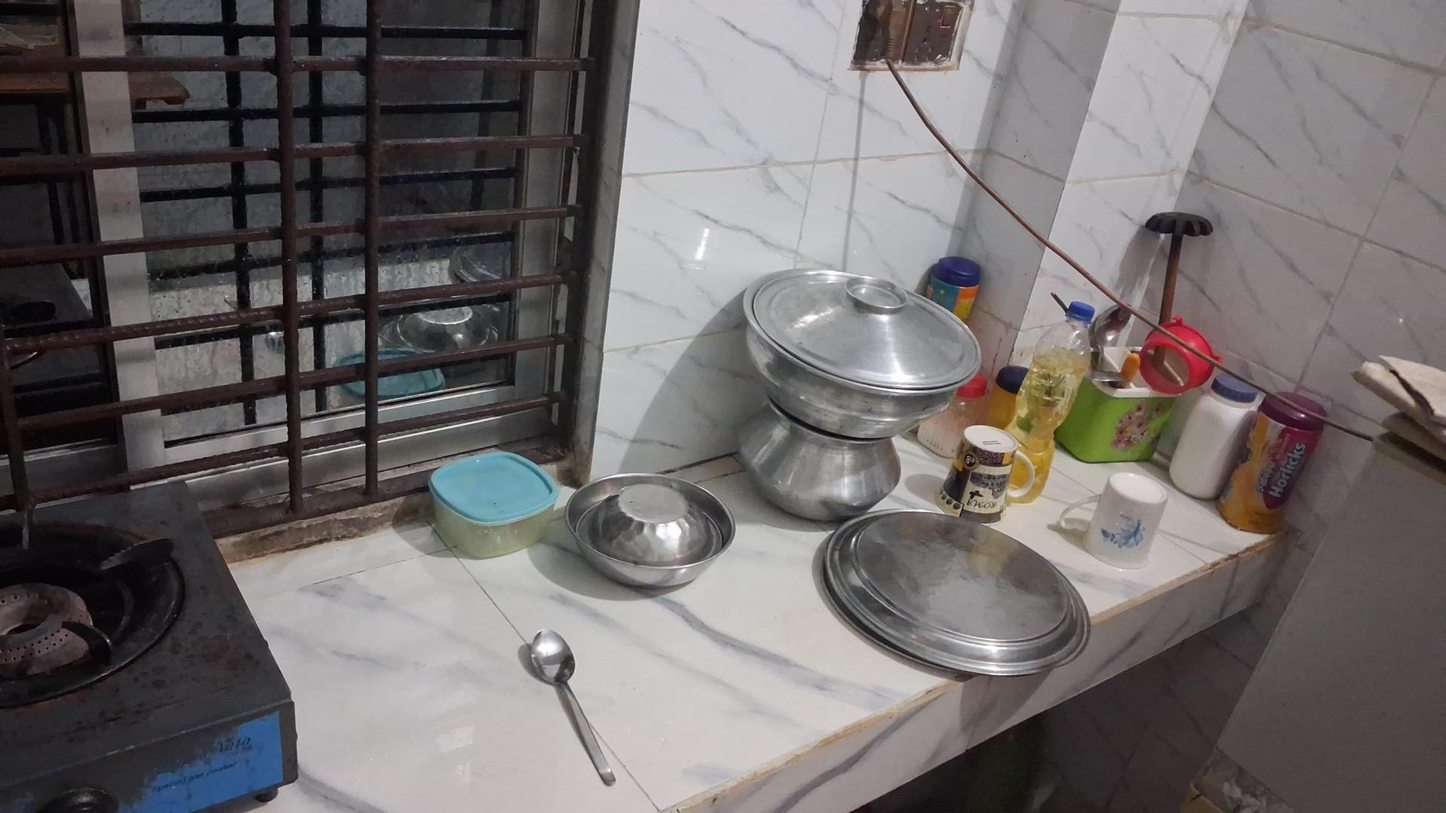Bottle: (1003, 297, 1098, 504)
Bowl: (565, 474, 736, 593)
Cup: (1084, 471, 1169, 570), (944, 425, 1030, 522)
Jar: (427, 450, 574, 559), (1224, 396, 1318, 536), (1165, 372, 1259, 500)
Plate: (812, 517, 1090, 670)
Pot: (740, 264, 976, 431), (738, 406, 900, 526)
Spoon: (519, 629, 616, 786)
